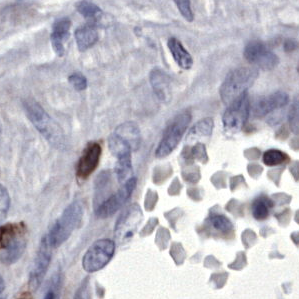Lymphocyte: (74, 139, 103, 182)
